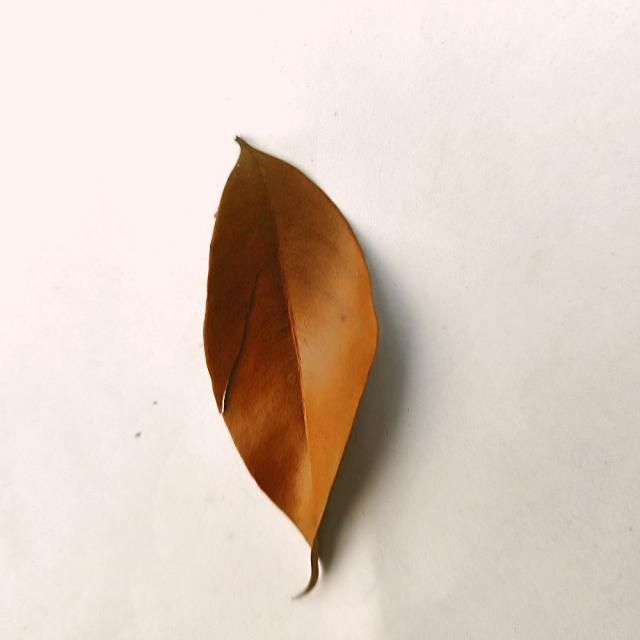Dry_Leaf-Lychee: (202, 137, 380, 595)
